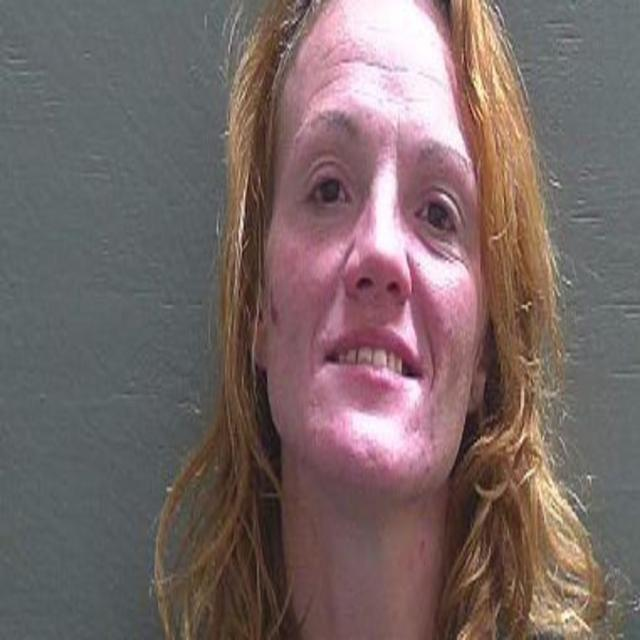mobile_phonerotation: (150, 1, 617, 637)
